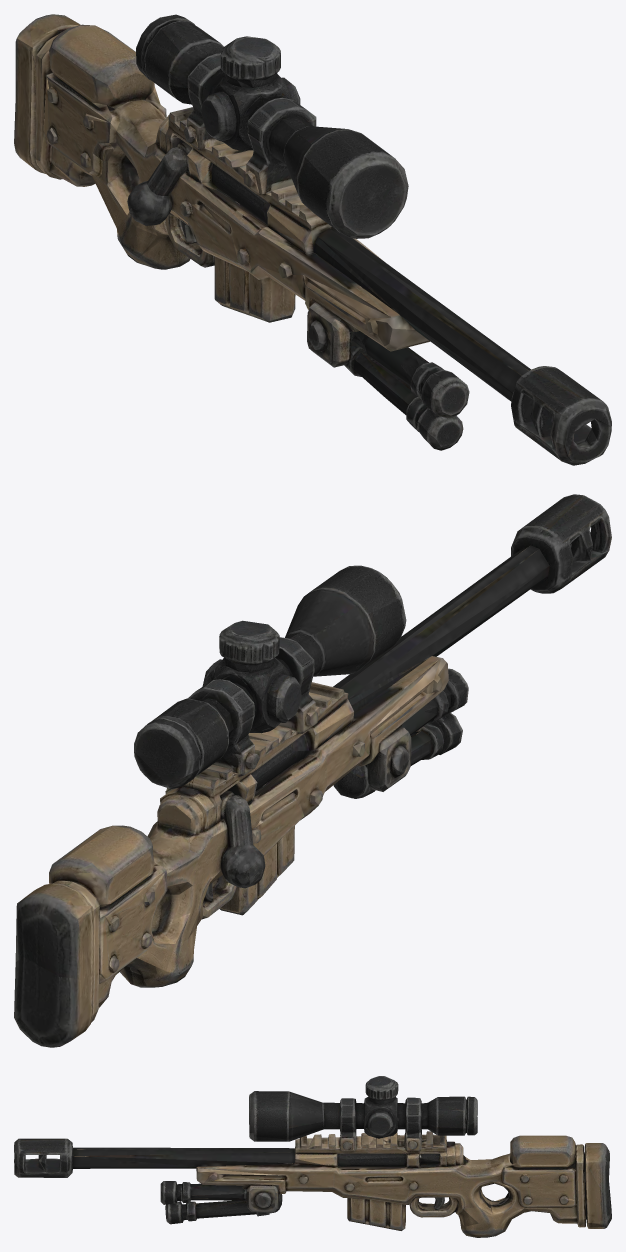
File: gun_fifty.glb
3 renders of one model, top to bottom at view 1: azimuth 30°, elevation 25°; view 2: azimuth 150°, elevation 25°; view 3: azimuth 270°, elevation 25°, orthographic. The views are drawn at different scales.
Bounding box in the file's own units: 0.2502 × 0.6152 × 2.19.
Materials: 1 (1 with a texture image).
